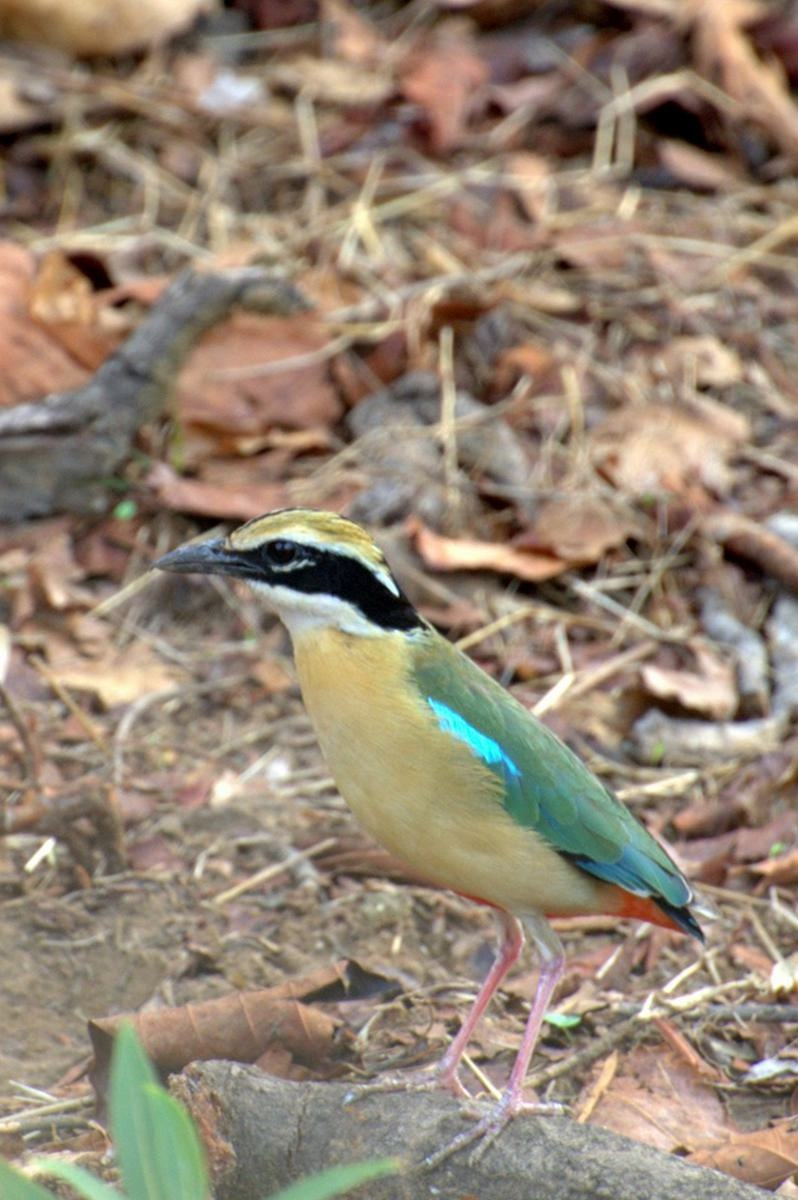pitta: (163, 479, 705, 1038)
